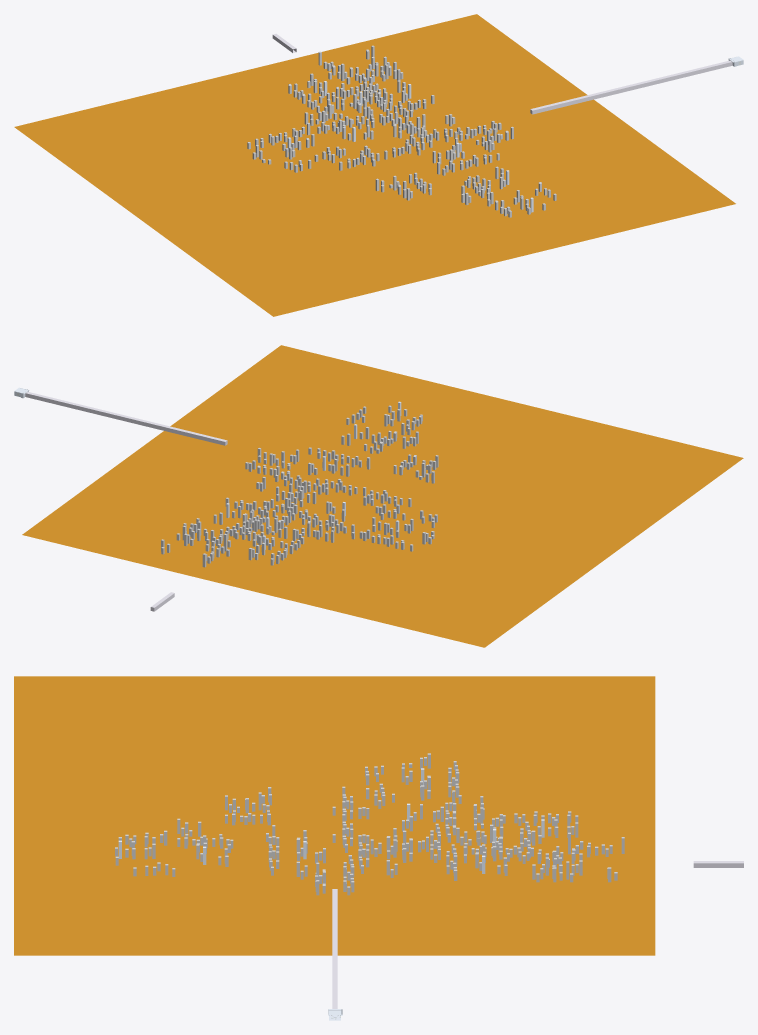
The model's file is init.glb.
3 views of the same model, one above another, from view 1: azimuth 30°, elevation 25°; view 2: azimuth 150°, elevation 25°; view 3: azimuth 270°, elevation 25° (orthographic). The views are drawn at different scales.
Parts seen in each view (by area): view 1: Cube.038, Cube.009; view 2: Cube.038, Cube.009; view 3: Cube.038, Cube.009.
Boxes of the visible parts, bbox=[...] form: Cube.038: bbox=[14, 14, 735, 316]; Cube.009: bbox=[530, 60, 732, 114]; Cube.038: bbox=[22, 345, 743, 647]; Cube.009: bbox=[25, 392, 227, 445]; Cube.038: bbox=[14, 676, 655, 955]; Cube.009: bbox=[332, 889, 337, 1008].
Size of the model in its own units: 2379 by 104 by 2035.
